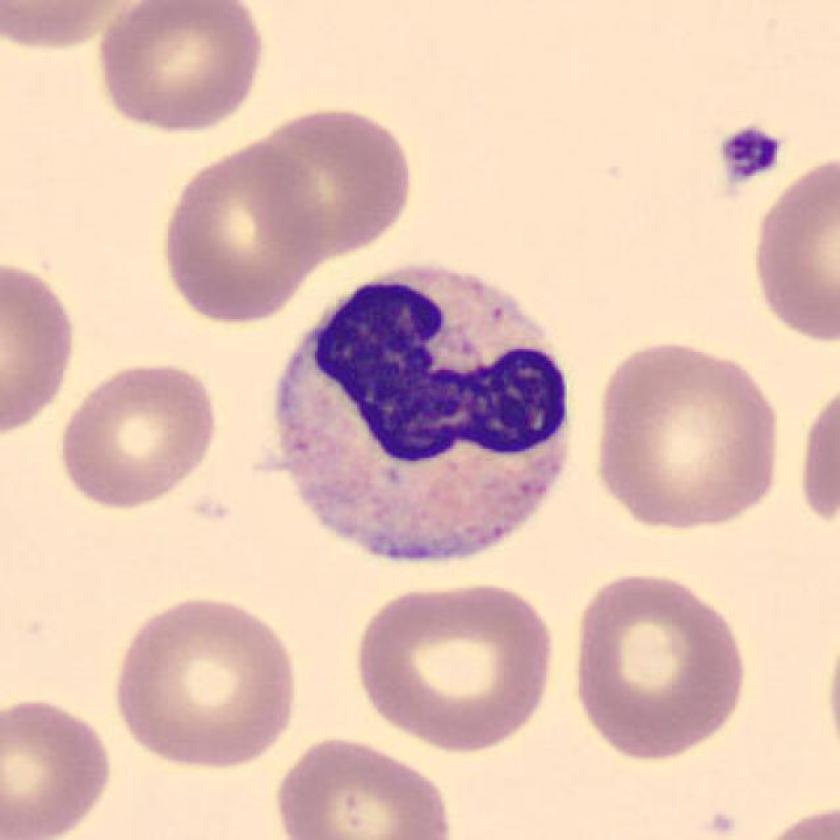neutrophil: (280, 267, 570, 559)
